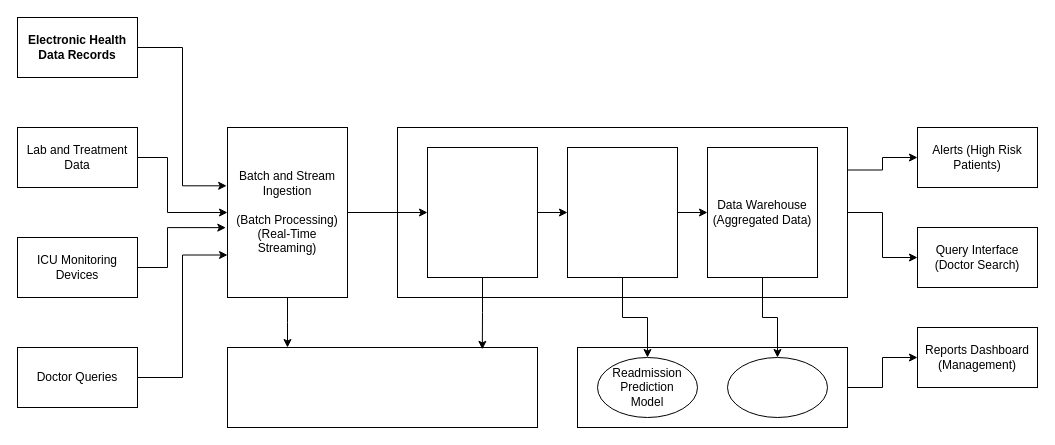
Image size: 1055x445. Some labels were removed from this diagram. Each missing label, with the box of its shape:
Data Lakes (Raw and Sreaming Data): (566, 146, 678, 278)
ETL and Feature Engineering: (226, 346, 538, 428)
NPL Query Model: (726, 356, 828, 418)
OLTP Data Base (Patient Records): (426, 146, 538, 278)
